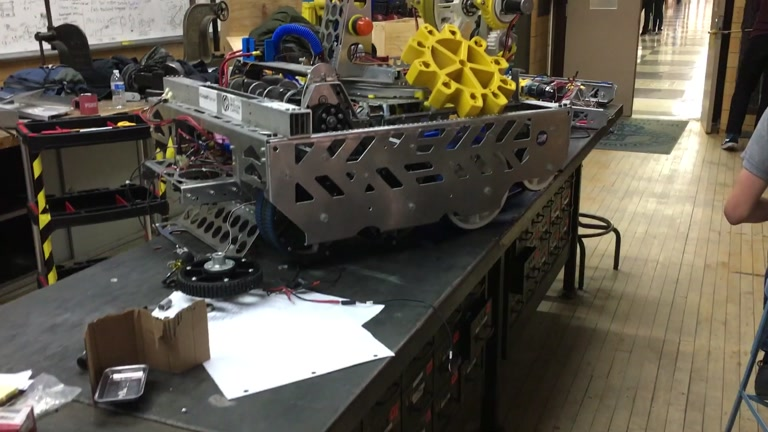gear: (400, 20, 518, 118)
